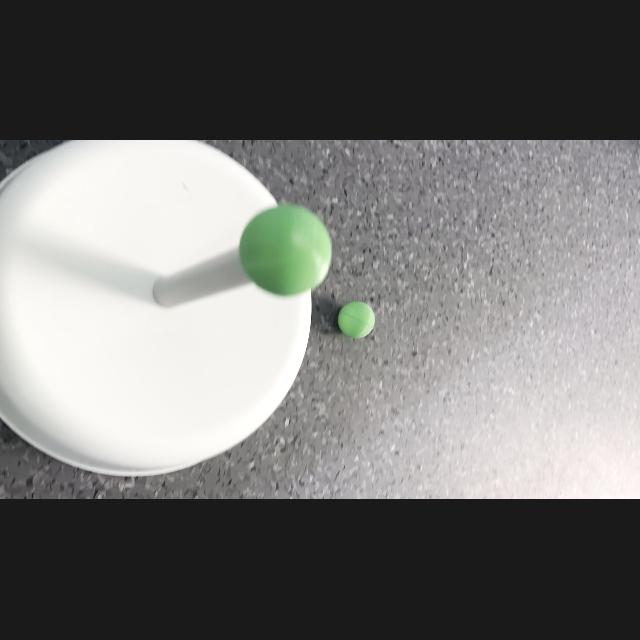objects: (235, 200, 335, 300), (337, 298, 378, 342)
